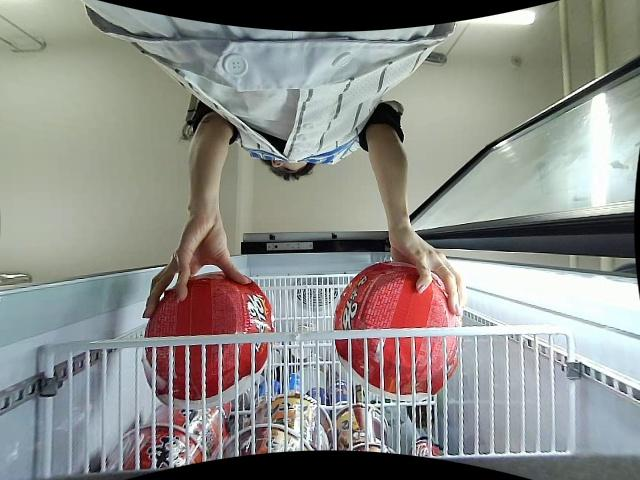00_hand: (143, 219, 253, 317), (389, 228, 466, 318)
10_wangTtukkeong: (143, 270, 275, 409), (333, 261, 460, 393)
